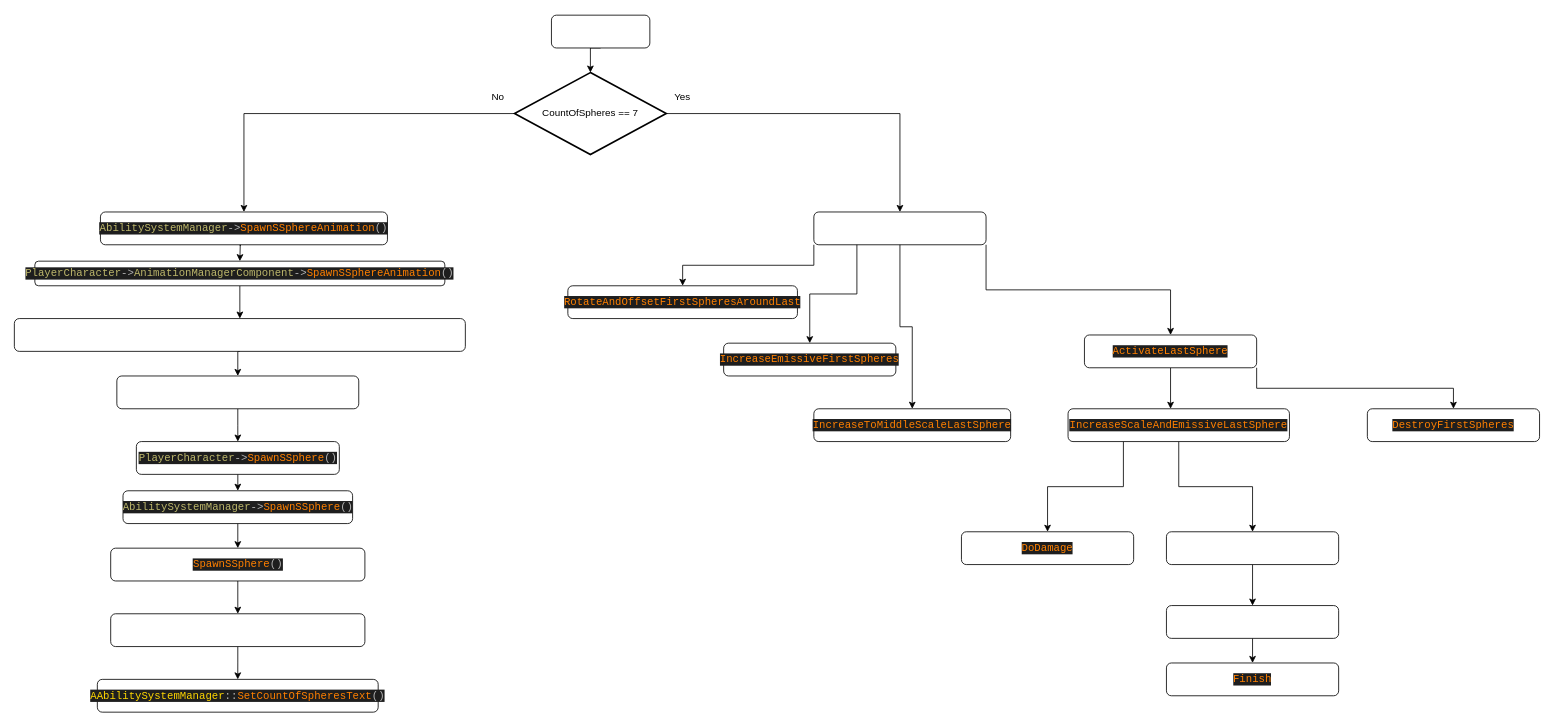
The diagram is 1554 pixels wide and 727 high, and some of its shapes have lost their labels. The shapes that lost their labels are listed below. From the top down, each one's centre as x and y in pixels, then its label:
At pixel 600 31: "Use".
At pixel 899 228: "ActivateAbility".
At pixel 239 334: "UAnimationManagerComponent :: SetPlayingAnimationSpawnSSphere ( true )".
At pixel 237 392: "UPlayerAnimInstance :: SpawnSSphere ()".
At pixel 1252 548: "DecreaseEmissiveLastSphere".
At pixel 237 630: "IncreaseCountOfSpheres".
At pixel 1252 621: "DecreaseOpacityLastSphere".
